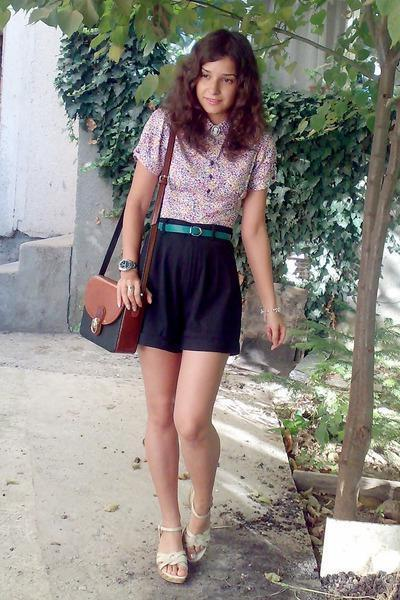Shorts: (124, 227, 239, 352)
short sleeve shirt: (131, 111, 280, 223)
